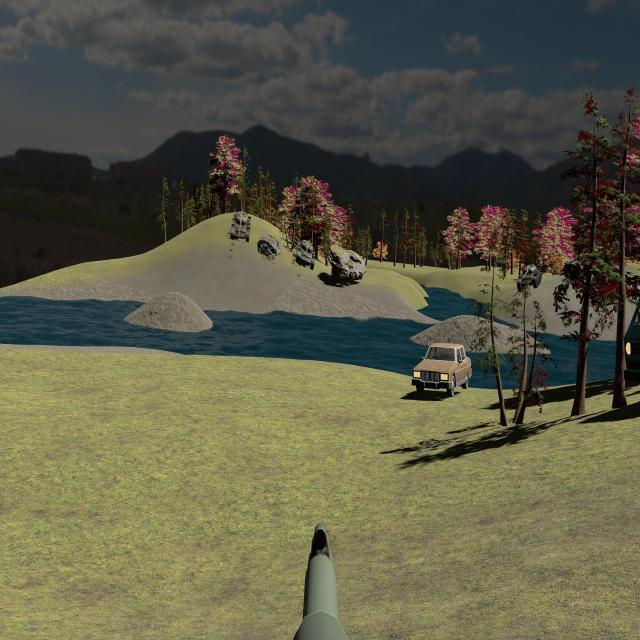Tank: (229, 210, 251, 243), (294, 238, 315, 271), (517, 264, 542, 291)
car: (411, 342, 472, 397), (623, 294, 640, 388), (623, 296, 640, 386)
